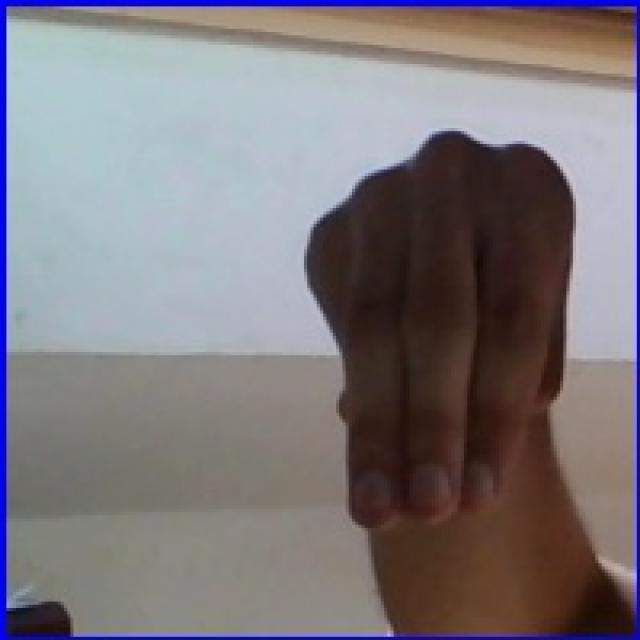Letra M: (294, 86, 616, 565)
